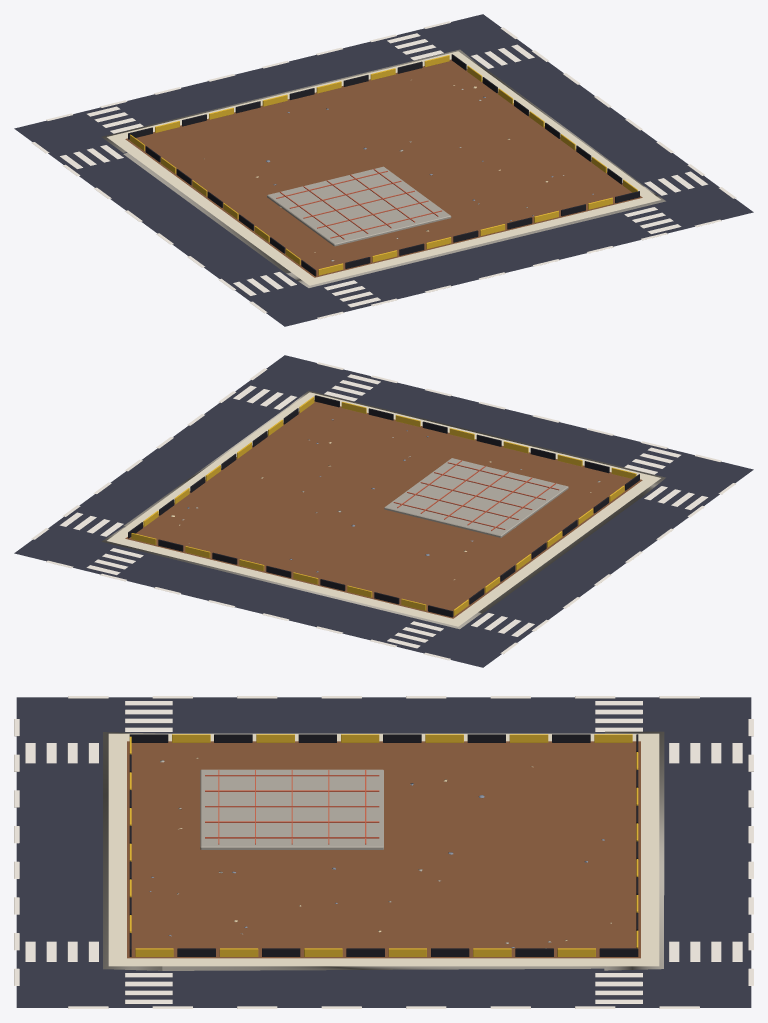
Rendered from tile_construction.glb.
3 views of the same model, one above another, from view 1: azimuth 30°, elevation 25°; view 2: azimuth 150°, elevation 25°; view 3: azimuth 270°, elevation 25° (orthographic). The views are drawn at different scales.
Visible parts, largest first — view 1: tile_construction; view 2: tile_construction; view 3: tile_construction.
Part boxes in pixels (left/top/right/bottom): tile_construction: left=14, top=14, right=753, bottom=326; tile_construction: left=14, top=355, right=753, bottom=667; tile_construction: left=14, top=696, right=753, bottom=1008.
Bounding box in the file's own units: 40.3 × 0.6691 × 40.3.
Materials: 1 (1 with a texture image).
